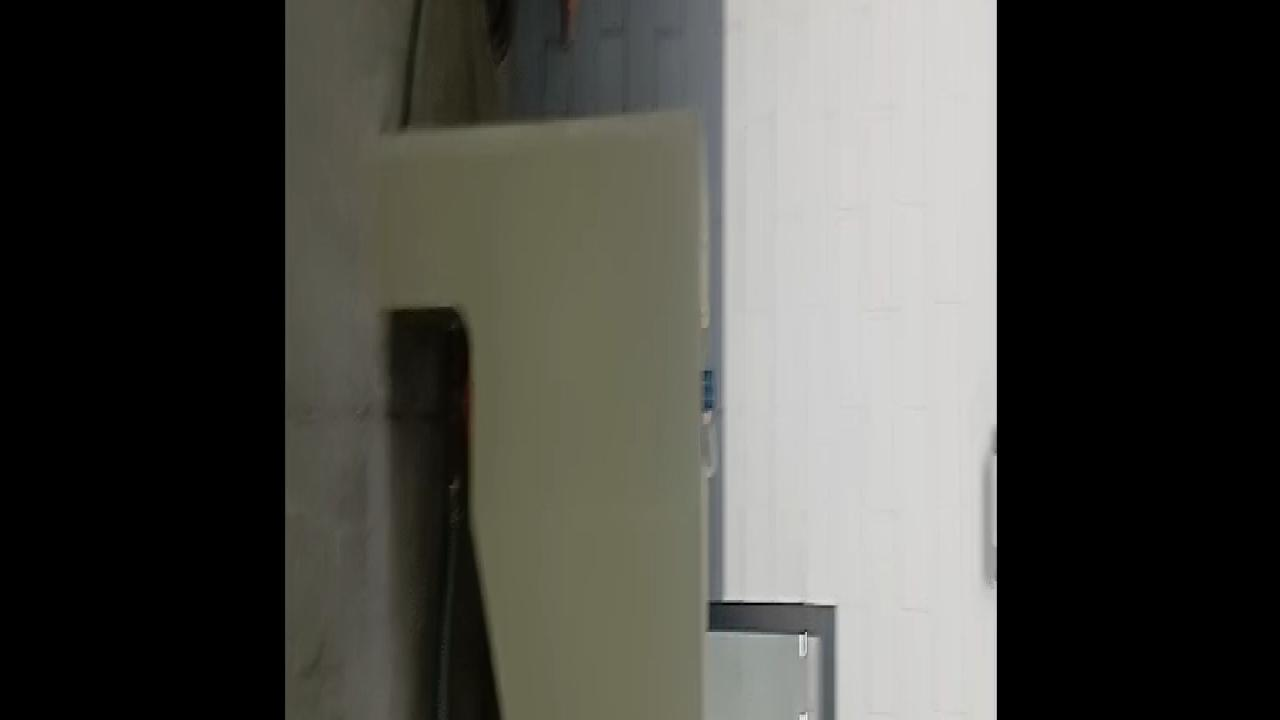Cube: (701, 370, 712, 414)
